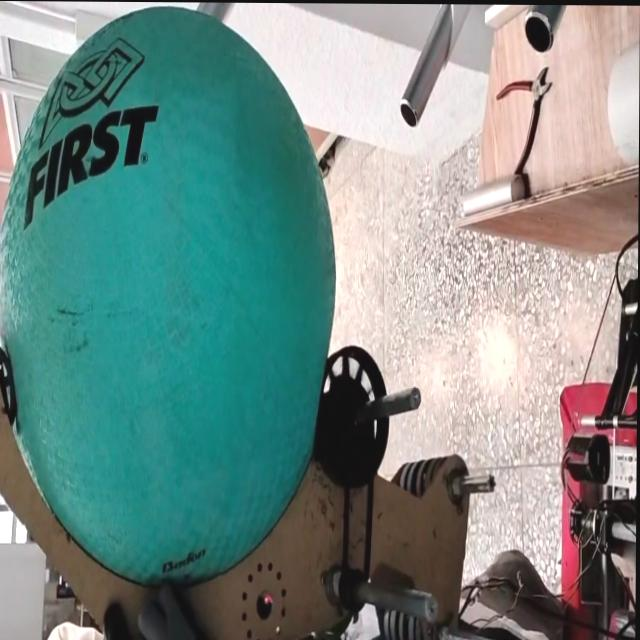ALGAE: (0, 0, 336, 585)
